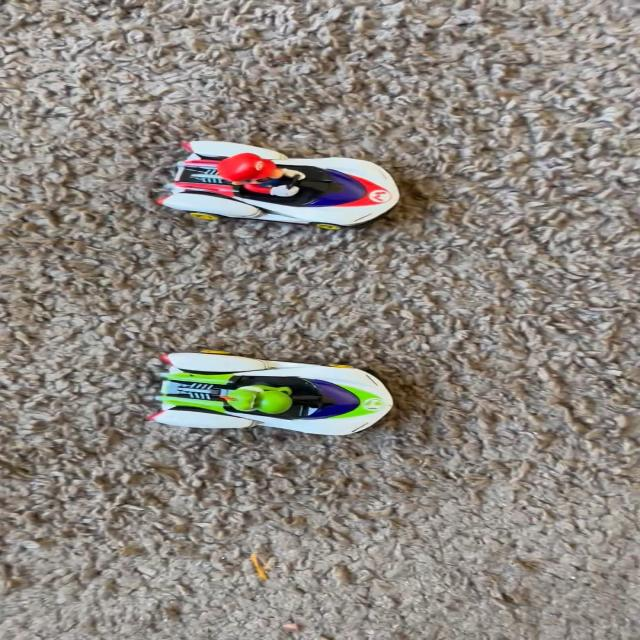mario: (153, 123, 416, 230)
yoshi: (132, 328, 414, 448)
